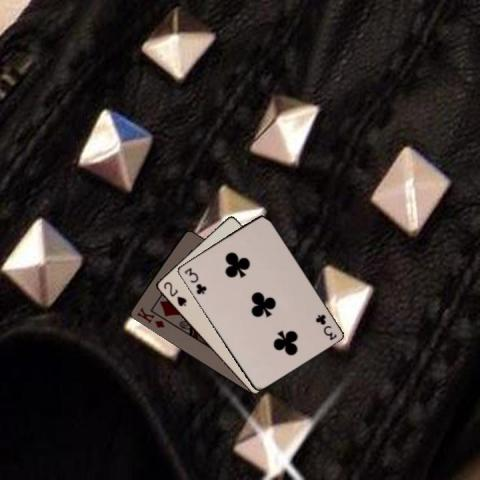2s: (160, 279, 188, 308)
3c: (181, 265, 208, 296), (313, 311, 338, 342)
Kd: (133, 305, 166, 329)
